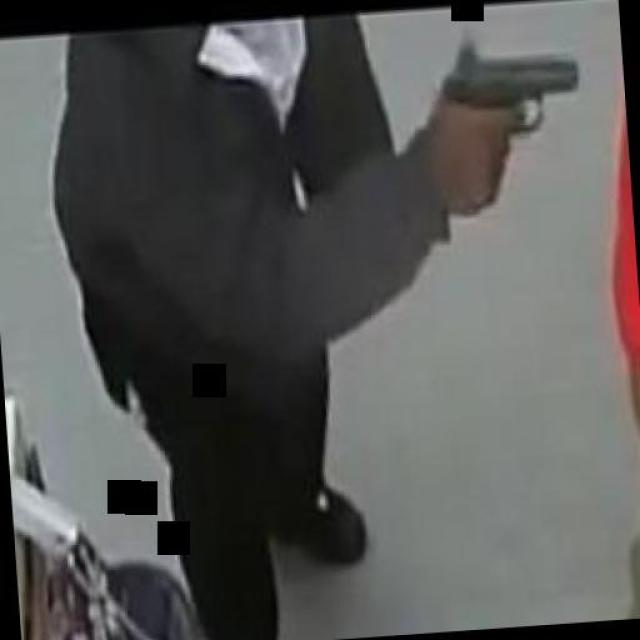gun: (432, 25, 588, 214)
